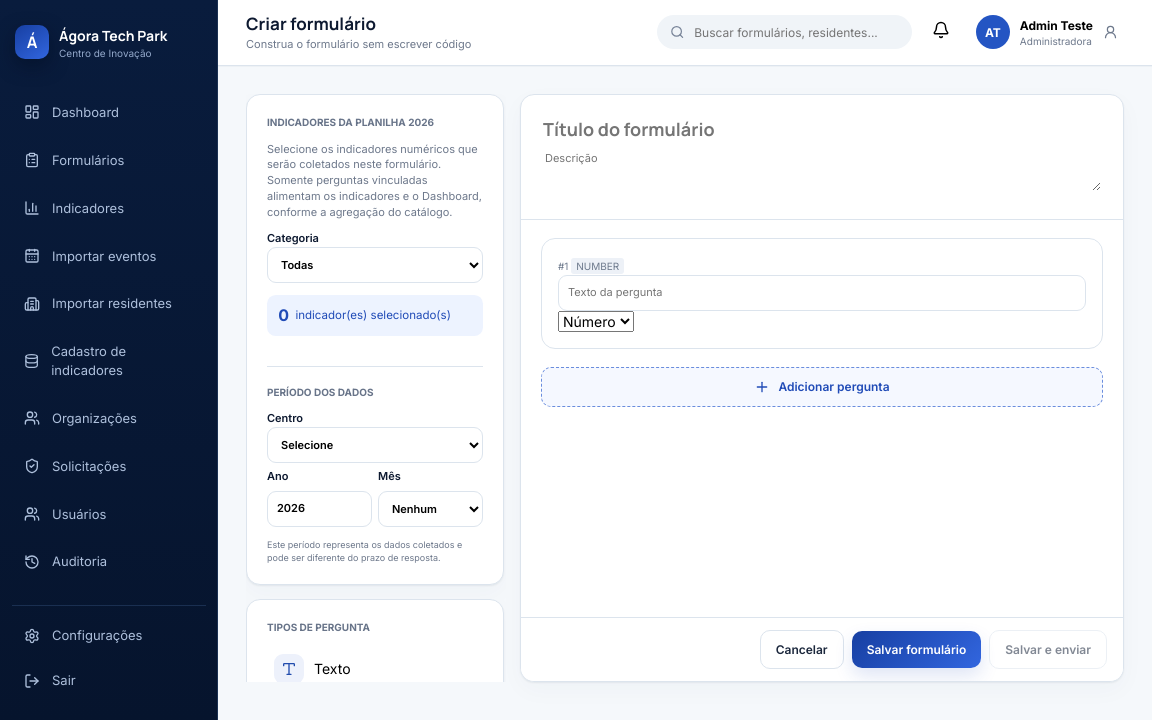
Test: busca e seleção explícita de respondentes › uses only the latest backend eligibility response after organization changes
Type "Pesquisa de satisfação" into the field with placeholder "Título do formulário" at (822, 129), box [543, 117, 1101, 141]
(page scrolled)
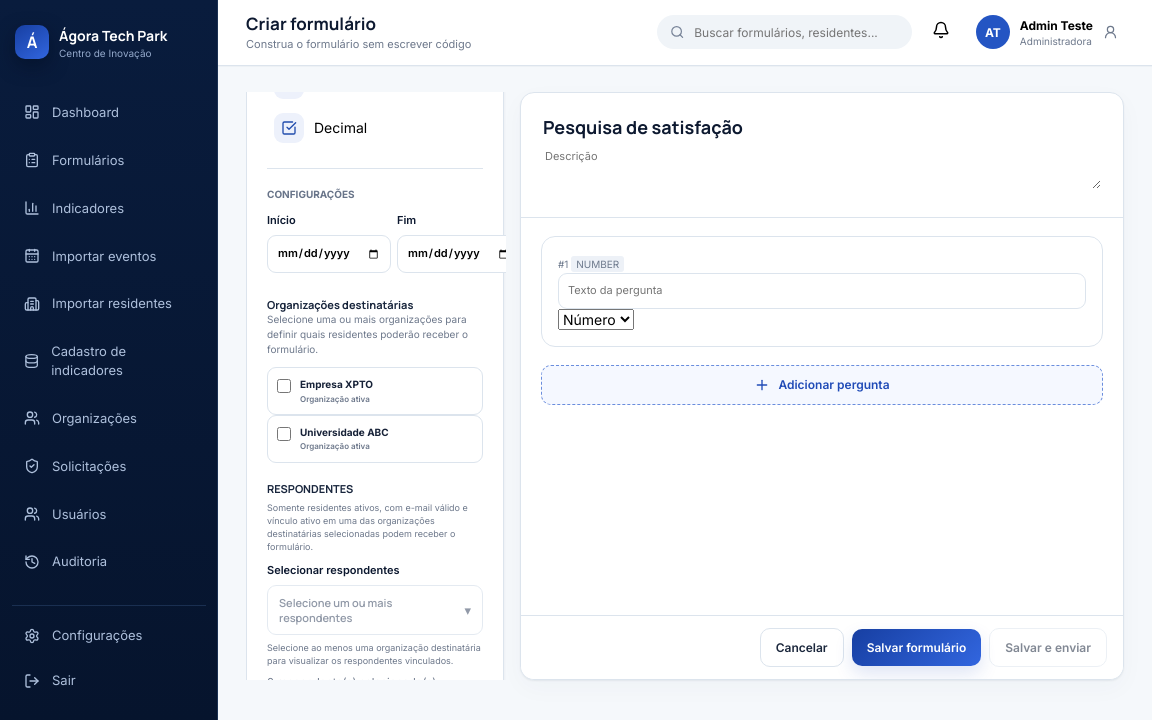
Click the checkbox labelled "Empresa XPTO Organização ativa" at (284, 386), box [277, 379, 291, 393]
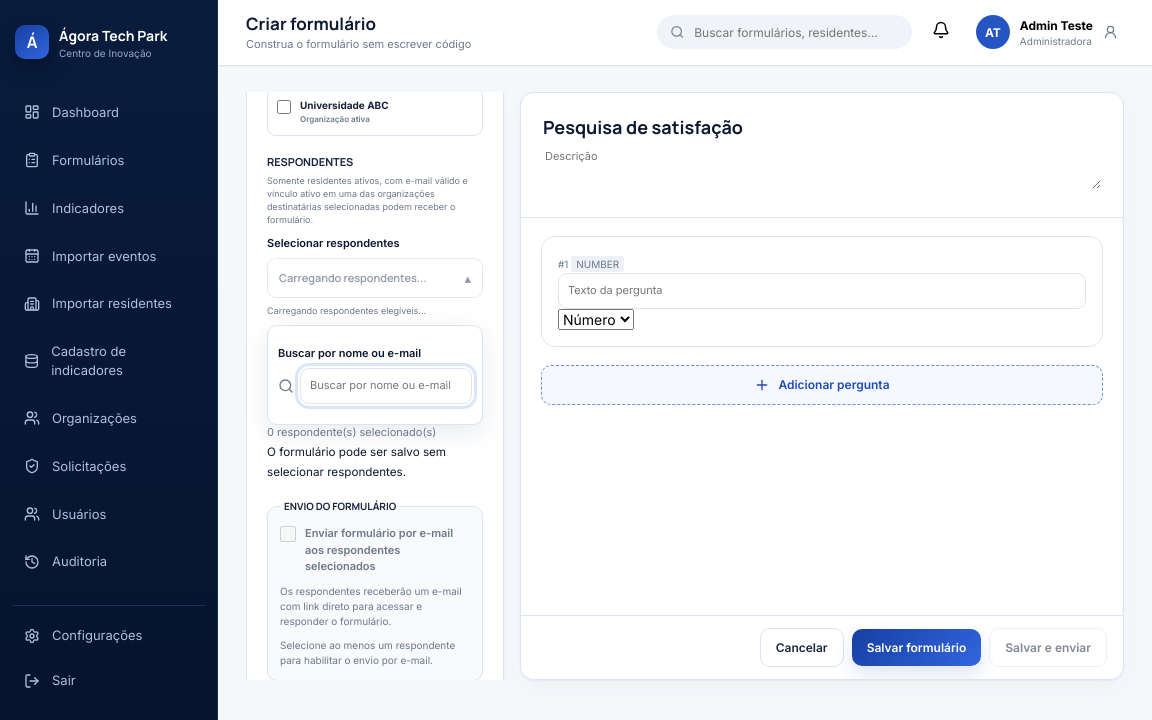
Click the checkbox labelled "Universidade ABC Organização ativa" at (284, 107), box [277, 100, 291, 114]
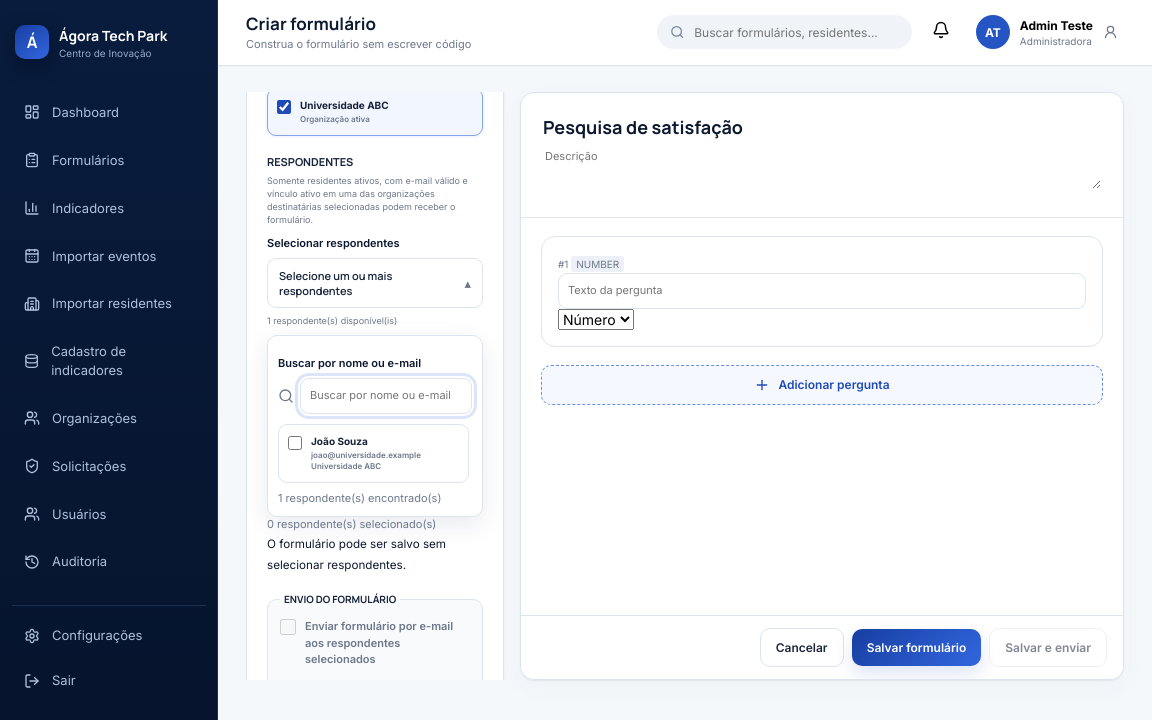
Result: the checkbox named "Jo.o Souza" is shown at [288, 436, 302, 450]
